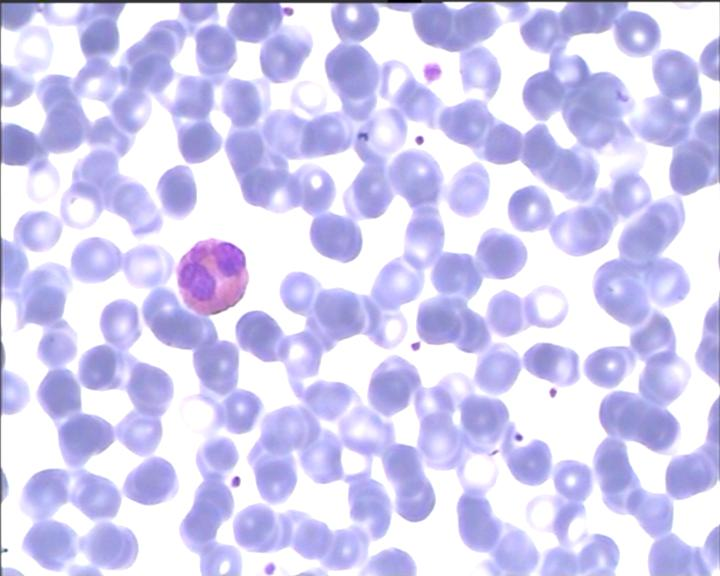eosi: (171, 232, 251, 320)
